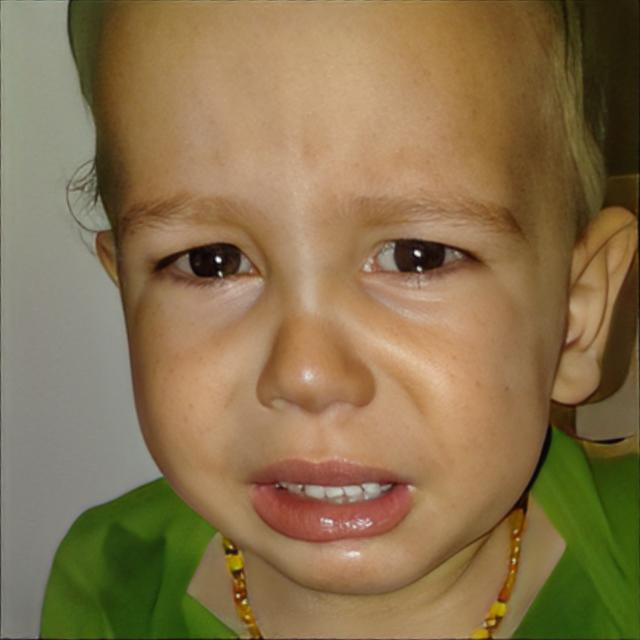sad: (94, 0, 573, 595)
